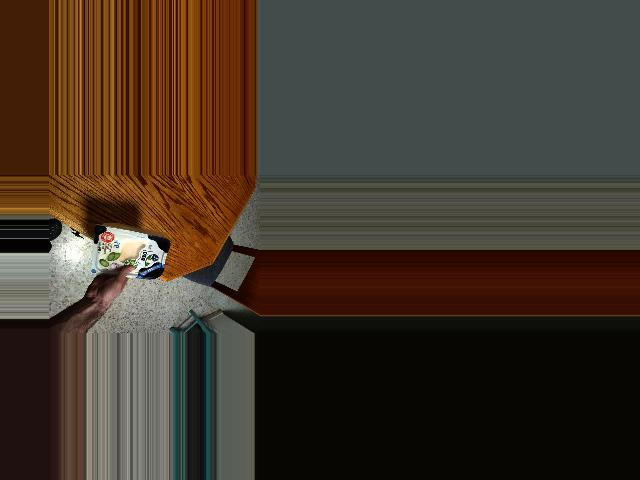cheese: (92, 223, 169, 281)
